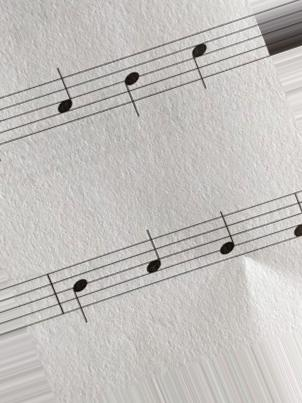note: (68, 255, 96, 332), (119, 52, 148, 126), (135, 222, 169, 285), (48, 64, 81, 123), (209, 207, 240, 267), (190, 29, 210, 104)
